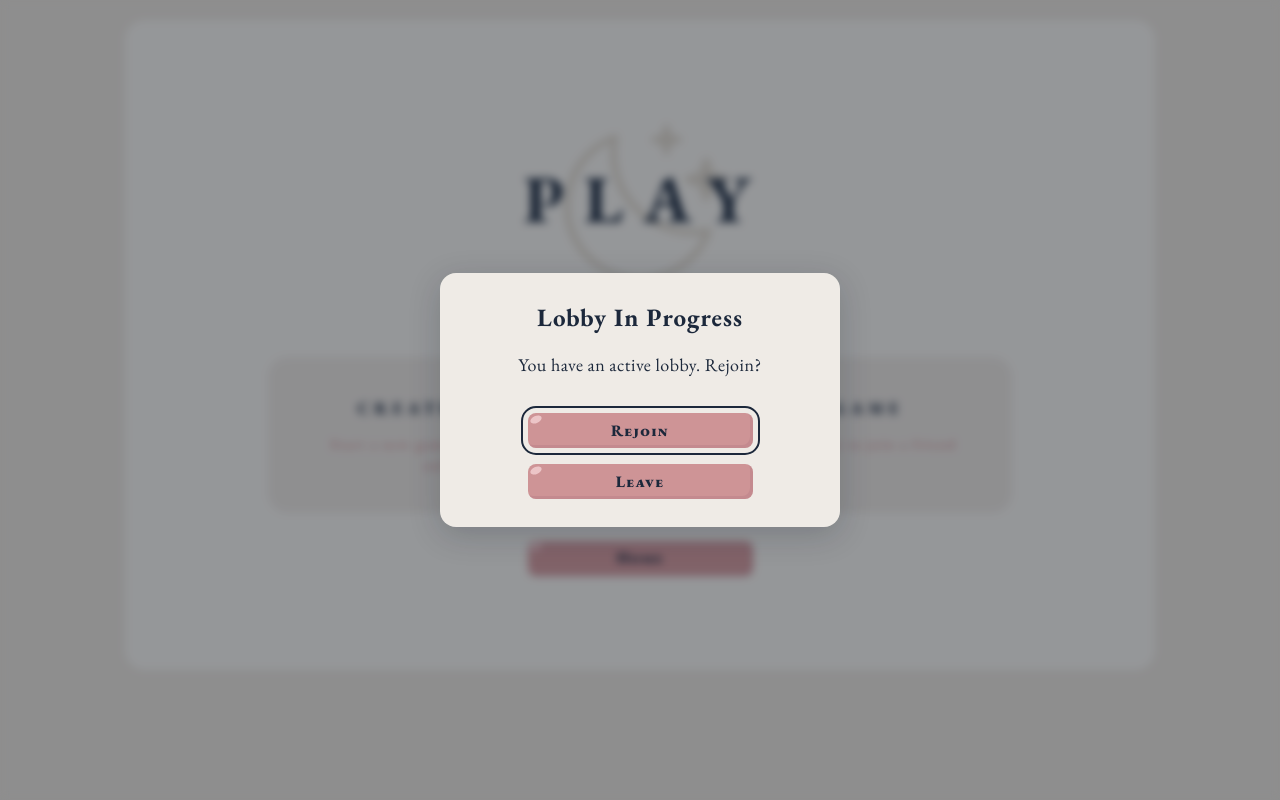
it: keeps the online session and shows the error if leaving fails
Click the button "Leave" at (640, 482), box [528,464,752,499]
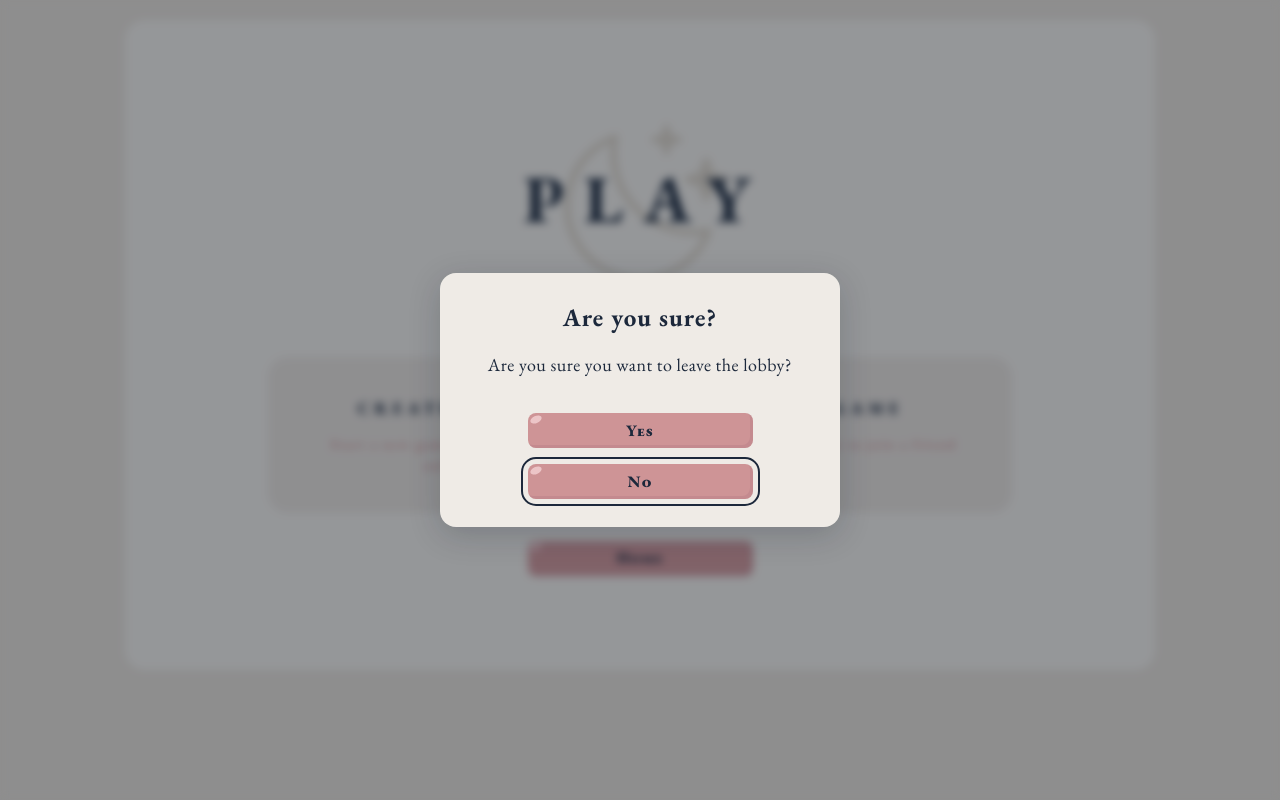
Click the button "Yes" at (640, 431), box [528,413,752,448]
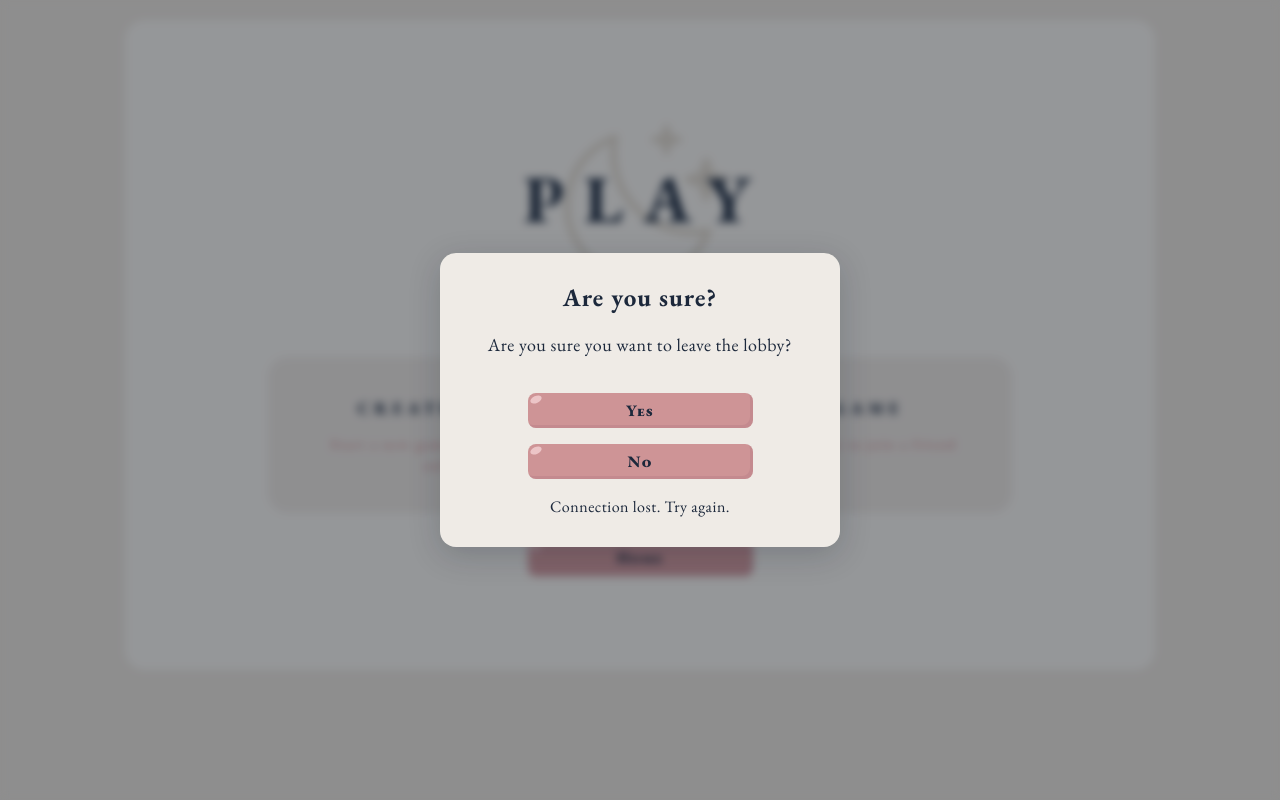
expect the dialog is shown: met, box [440,253,840,547]
expect the message shows "Connection lost": met, box [550,496,730,517]
